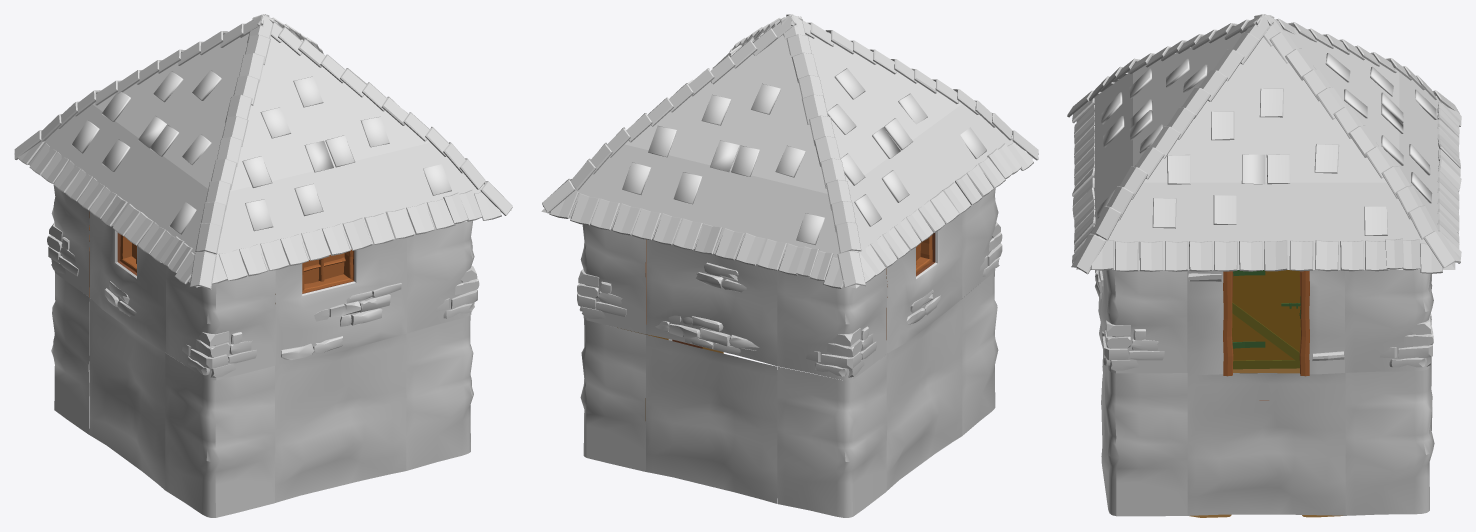
File: Modular_house_3.fbx
3 renders of one model, left to right at view 1: azimuth 30°, elevation 25°; view 2: azimuth 150°, elevation 25°; view 3: azimuth 270°, elevation 25°, orthographic. The views are drawn at different scales.
Parts seen in each view (by area): view 1: Cube.358, underground.018, underground.015, underground.014, wall.033, underground.013, roof.031, wall.036, roof.035, roof.032, wall.037, roof.039 (+11 smaller); view 2: Cube.358, underground.017, underground.016, underground.014, wall.038, underground.012, roof.033, wall.039, roof.036, roof.032, wall.037, roof.041 (+10 smaller); view 3: Cube.358, underground.011, underground.012, underground.013, roof.030, wall.035, wall.032, wall.034, Windows_doors.103, roof.038, roof.034, roof.037 (+12 smaller).
Part boxes in pixels (x1,y1,x2,y2): Cube.358: (28,33,511,287); underground.018: (275,334,406,502); underground.015: (165,353,275,517); underground.014: (89,297,165,489); wall.033: (275,238,406,365); underground.013: (406,315,473,470); roof.031: (212,190,501,284); wall.036: (166,265,275,380); roof.035: (189,15,274,289); roof.032: (17,139,194,284); wall.037: (89,212,165,352); roof.039: (242,76,451,231); Cube.358: (541,35,1033,288); underground.017: (646,334,777,503); underground.016: (777,354,887,517); underground.014: (886,299,962,490); wall.038: (646,239,777,365); underground.012: (580,319,645,471); roof.033: (549,191,843,288); wall.039: (777,268,887,380); roof.036: (780,15,865,287); roof.032: (857,142,1033,282); wall.037: (886,213,962,353); roof.041: (622,83,824,244); Cube.358: (1076,29,1455,269); underground.011: (1187,373,1345,515); underground.012: (1345,360,1434,515); underground.013: (1101,365,1187,516); roof.030: (1090,238,1442,273); wall.035: (1345,270,1433,372); wall.032: (1187,270,1344,374); wall.034: (1101,270,1187,373); Windows_doors.103: (1232,270,1300,369); roof.038: (1152,88,1387,235); roof.034: (1071,15,1273,274); roof.037: (1253,15,1460,268).
Size of the model in its own units: 495 by 606 by 500.
